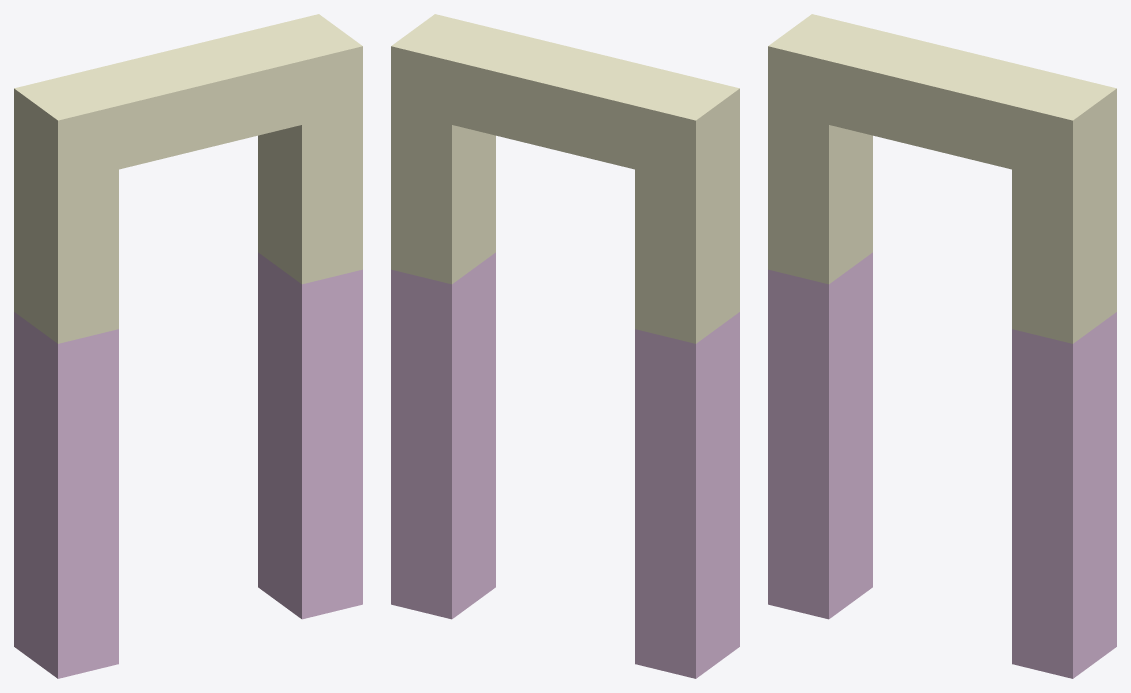
The model's file is Wall_A_Door.glb.
3 views of the same model, side by side, from view 1: azimuth 30°, elevation 25°; view 2: azimuth 150°, elevation 25°; view 3: azimuth 330°, elevation 25° (orthographic).
Visible parts, largest first — view 1: Wall A Door; view 2: Wall A Door; view 3: Wall A Door.
Boxes of the visible parts, x1=… form: Wall A Door: x1=14, y1=14, x2=362, y2=678; Wall A Door: x1=391, y1=14, x2=739, y2=678; Wall A Door: x1=768, y1=14, x2=1116, y2=678.
Bounding box in the file's own units: 2 × 3.5 × 0.5.
